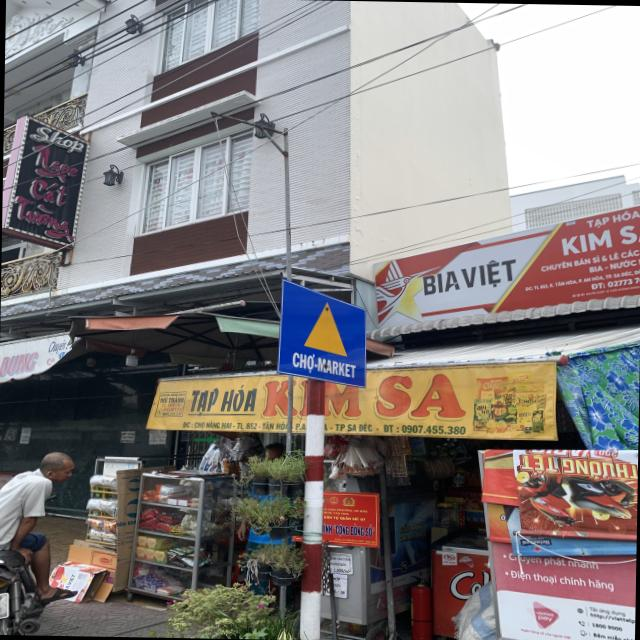Cho_Quay_Xe: (281, 280, 369, 386)
